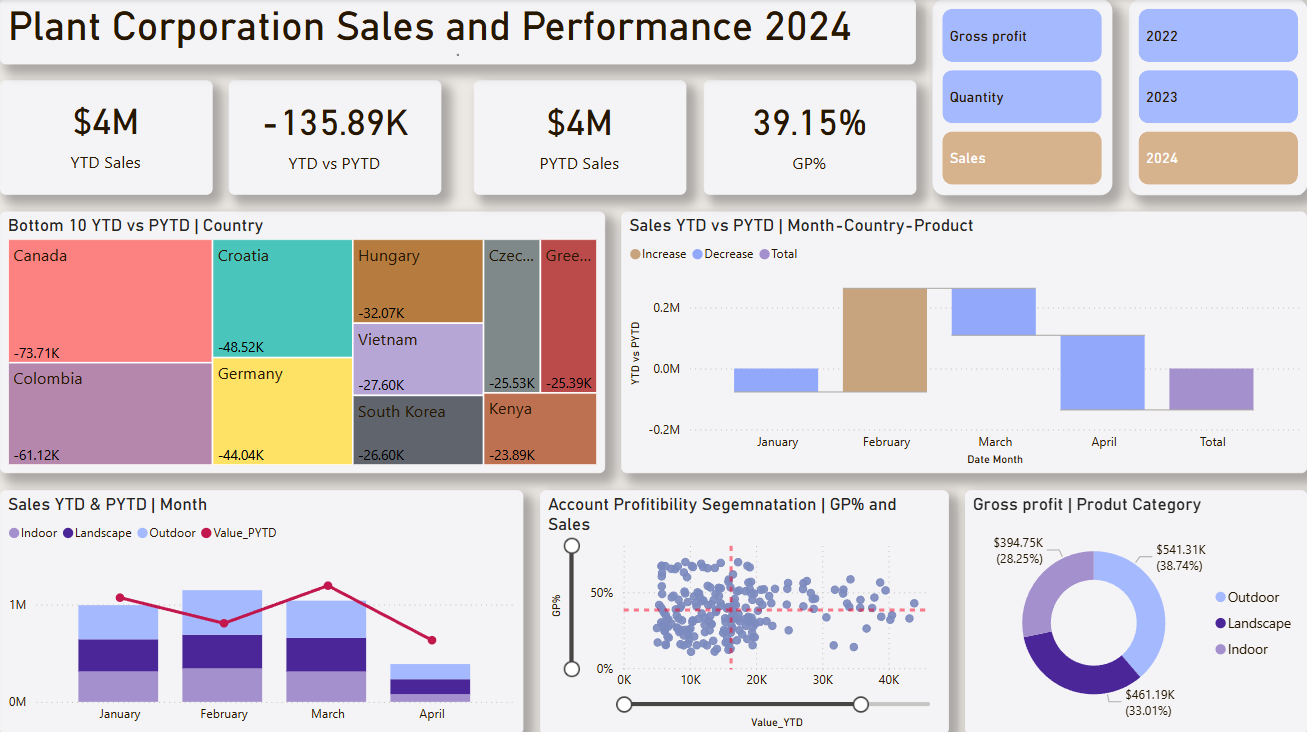

This screenshot's page, from the dashboard's own definition file:
{"tool":"powerbi","page":{"name":"Page 1","canvas":[1280,720],"ordinal":0},"visuals":[{"type":"cardVisual","title":"YTD","fields":{"Data":["_Measures.YTD_sales"]},"box":[0,80,208,112],"z":0},{"type":"advancedSlicerVisual","fields":{"Values":["Dim_Date.Date.Variation.Date Hierarchy.Year"]},"box":[1104,0,176,192],"z":1000},{"type":"treemap","title":"Bottom 10 YTD vs PYTD  | Country","fields":{"Group":["Dim_Accounts.country"],"Values":["_Measures.YTD vs PYTD"]},"box":[0,208,592,256],"z":2000},{"type":"waterfallChart","fields":{"Category":["Dim_Date.Date.Variation.Date Hierarchy.Month","Dim_Product.Produt_Type","Dim_Accounts.country"],"Y":["_Measures.YTD vs PYTD"]},"box":[608,208,672,256],"z":3000},{"type":"lineStackedColumnComboChart","fields":{"Y":["_Measures.Switch_YTD"],"Y2":["_Measures.Switch_PYTD"],"Series":["Dim_Product.Produt_Type"],"Category":["Dim_Date.Date.Variation.Date Hierarchy.Quarter","Dim_Date.Date.Variation.Date Hierarchy.Month"]},"box":[0,480,512,240],"z":4000},{"type":"cardVisual","fields":{"Data":["_Measures.YTD vs PYTD"]},"box":[224,80,208,112],"z":5000},{"type":"cardVisual","fields":{"Data":["_Measures.PYTD_sales"]},"box":[464,80,208,112],"z":6000},{"type":"cardVisual","fields":{"Data":["_Measures.GP%"]},"box":[688,80,208,112],"z":7000},{"type":"advancedSlicerVisual","fields":{"Values":["Slc_Values.Values"]},"box":[912,0,176,192],"z":8000},{"type":"scatterChart","fields":{"Category":["Dim_Accounts.Account"],"X":["_Measures.Switch_YTD"],"Y":["_Measures.GP%"]},"box":[528,480,400,240],"z":8001},{"type":"clusteredColumnChart","box":[0,0,896,64],"z":8002},{"type":"donutChart","title":"Gross profit | Produt Category","fields":{"Category":["Dim_Product.Produt_Type"],"Y":["_Measures.Gross profit"]},"box":[944,480,336,240],"z":8003}]}

Visuals, with their boxes in screenshot pixels (x1, y1, x2, y2), scaled from the page's 1280x720 canvas onto the 1307x732 screenshot:
"YTD" cardVisual: (x1=0, y1=81, x2=212, y2=195)
advancedSlicerVisual - Dim_Date.Date.Variation.Date Hierarchy.Year: (x1=1127, y1=0, x2=1306, y2=195)
"Bottom 10 YTD vs PYTD  | Country" treemap: (x1=0, y1=211, x2=604, y2=472)
waterfallChart - Dim_Date.Date.Variation.Date Hierarchy.Month x Dim_Product.Produt_Type: (x1=621, y1=211, x2=1306, y2=472)
lineStackedColumnComboChart - _Measures.Switch_YTD x _Measures.Switch_PYTD: (x1=0, y1=488, x2=523, y2=731)
cardVisual - _Measures.YTD vs PYTD: (x1=229, y1=81, x2=441, y2=195)
cardVisual - _Measures.PYTD_sales: (x1=474, y1=81, x2=686, y2=195)
cardVisual - _Measures.GP%: (x1=703, y1=81, x2=915, y2=195)
advancedSlicerVisual - Slc_Values.Values: (x1=931, y1=0, x2=1111, y2=195)
scatterChart - Dim_Accounts.Account x _Measures.Switch_YTD: (x1=539, y1=488, x2=948, y2=731)
clusteredColumnChart: (x1=0, y1=0, x2=915, y2=65)
"Gross profit | Produt Category" donutChart: (x1=964, y1=488, x2=1306, y2=731)
